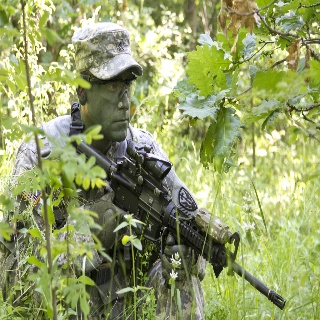rifle: (71, 138, 289, 314)
